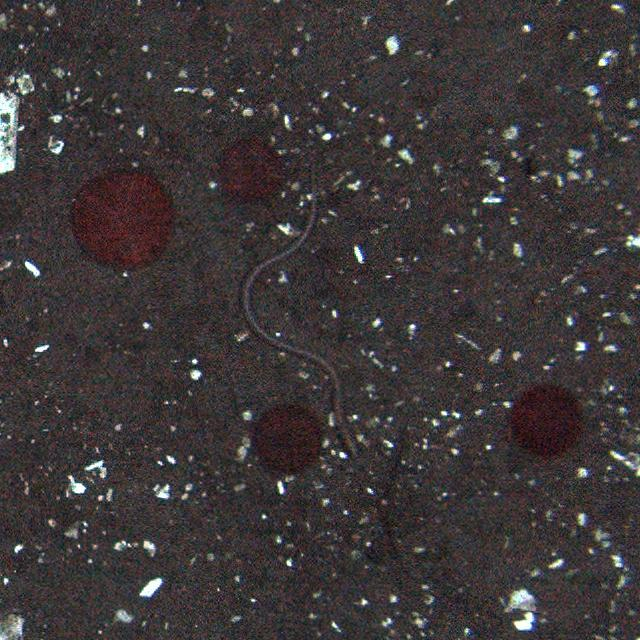eel: (238, 203, 363, 463)
